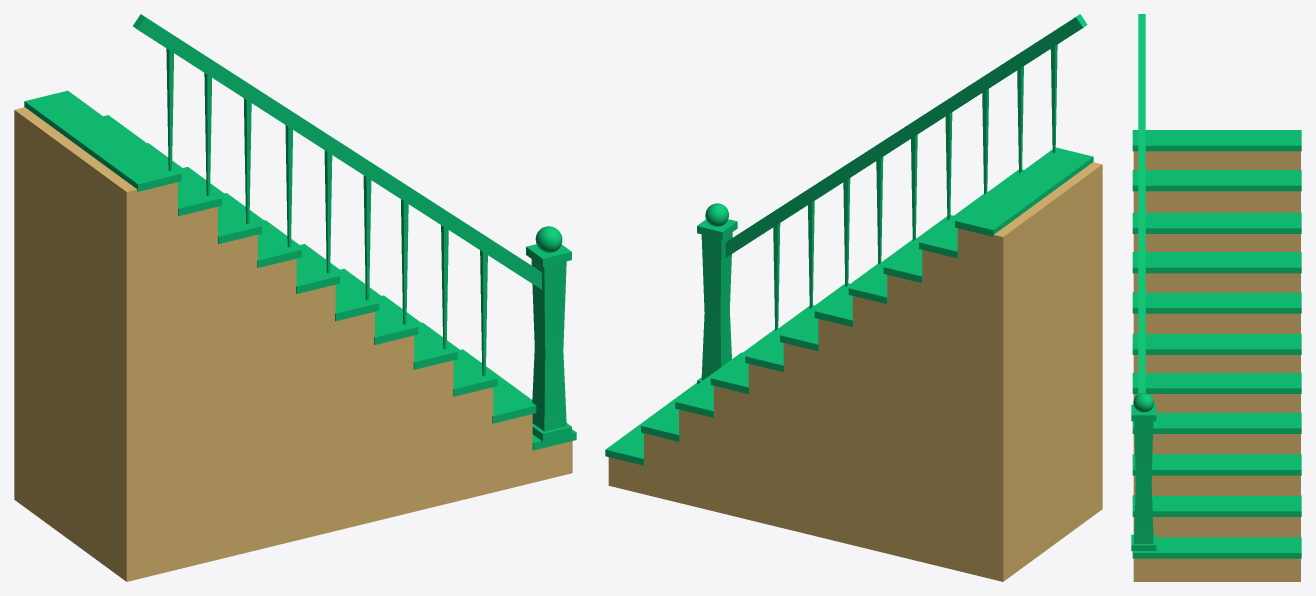
The model's file is escaleras.obj.
3 renders of one model, left to right at view 1: azimuth 30°, elevation 25°; view 2: azimuth 150°, elevation 25°; view 3: azimuth 270°, elevation 25°, orthographic. The views are drawn at different scales.
Visible parts, largest first — view 1: reloj:escaleras:ModelpolySurface34; view 2: reloj:escaleras:ModelpolySurface34; view 3: reloj:escaleras:ModelpolySurface34.
Part boxes in pixels (x1=…): reloj:escaleras:ModelpolySurface34: x1=14, y1=14, x2=576, y2=581; reloj:escaleras:ModelpolySurface34: x1=605, y1=14, x2=1102, y2=581; reloj:escaleras:ModelpolySurface34: x1=1131, y1=14, x2=1301, y2=581.
Size of the model in its own units: 5.46 by 6.46 by 2.41.
2 materials, 2 textured.
